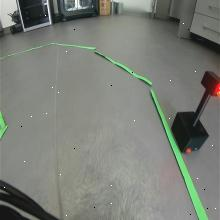red: (199, 70, 220, 98)
